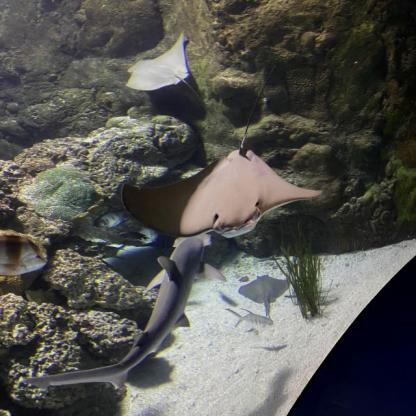fish: (0, 230, 49, 280), (223, 306, 276, 329)
shark: (23, 232, 228, 400)
stingray: (120, 146, 323, 237), (121, 31, 190, 94), (237, 274, 295, 306)
